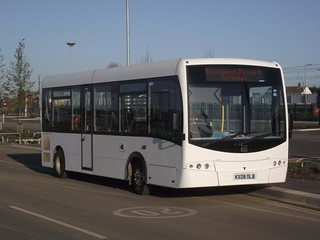bus: (41, 57, 288, 195)
